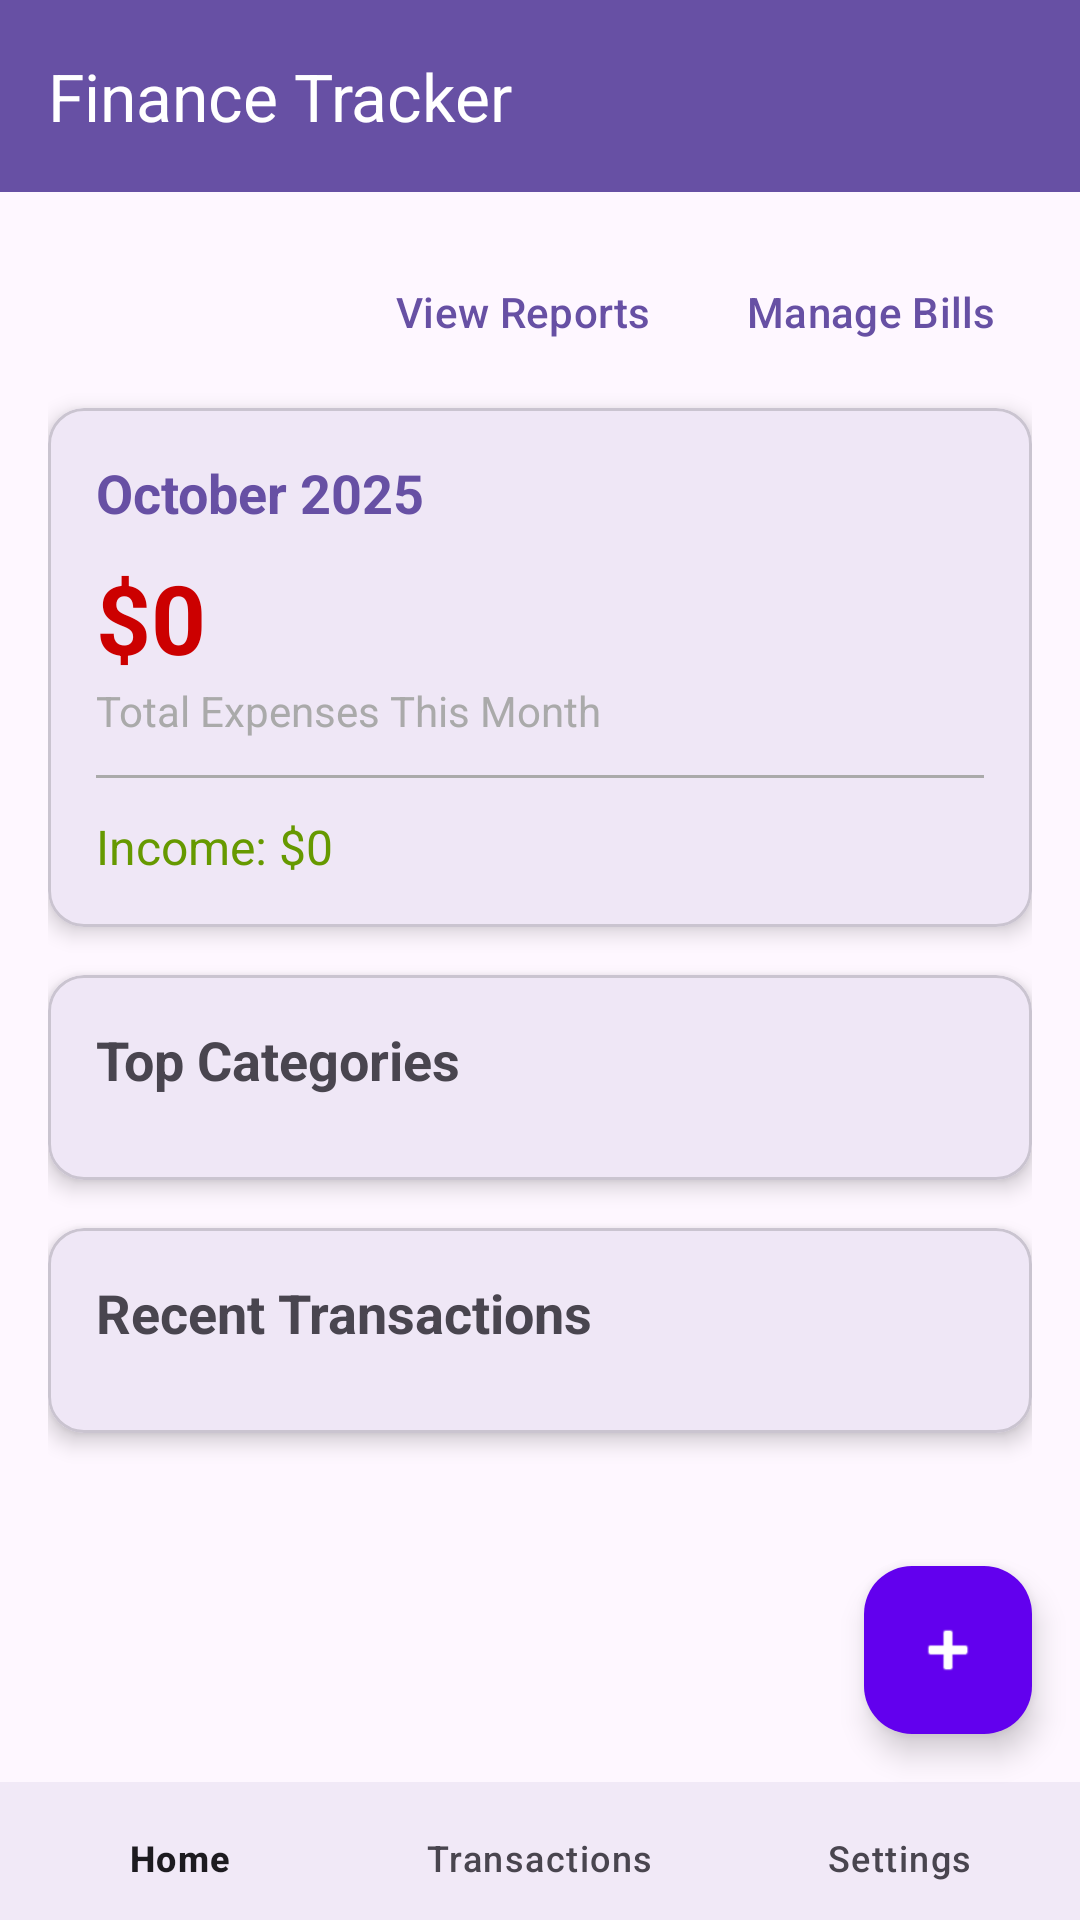

Point at icon controls on the screen. Image size 1080×1920, points as [x,y].
Add Transaction: [948,1650]
